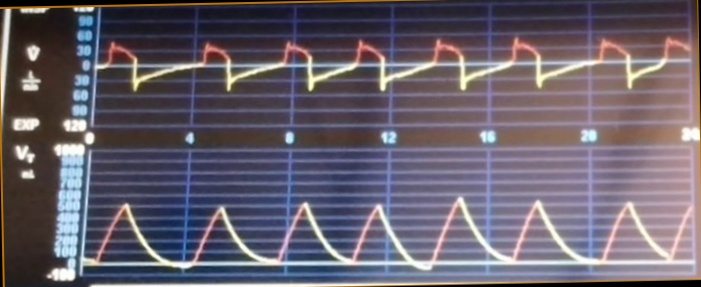Normal Flow: (99, 20, 690, 110)
Normal Volume: (88, 180, 693, 272)
